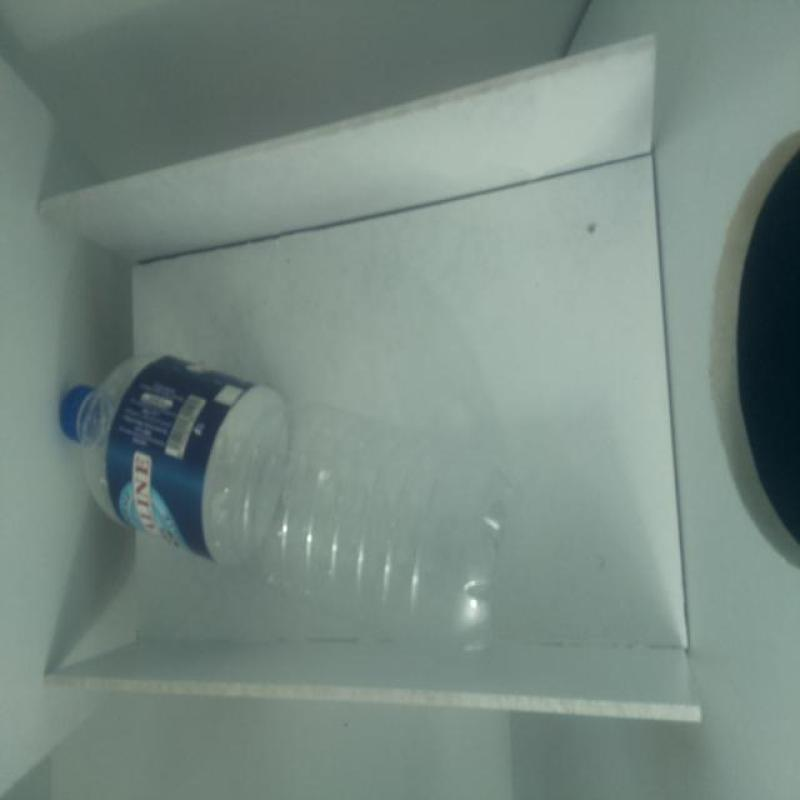botella: (61, 354, 530, 660)
